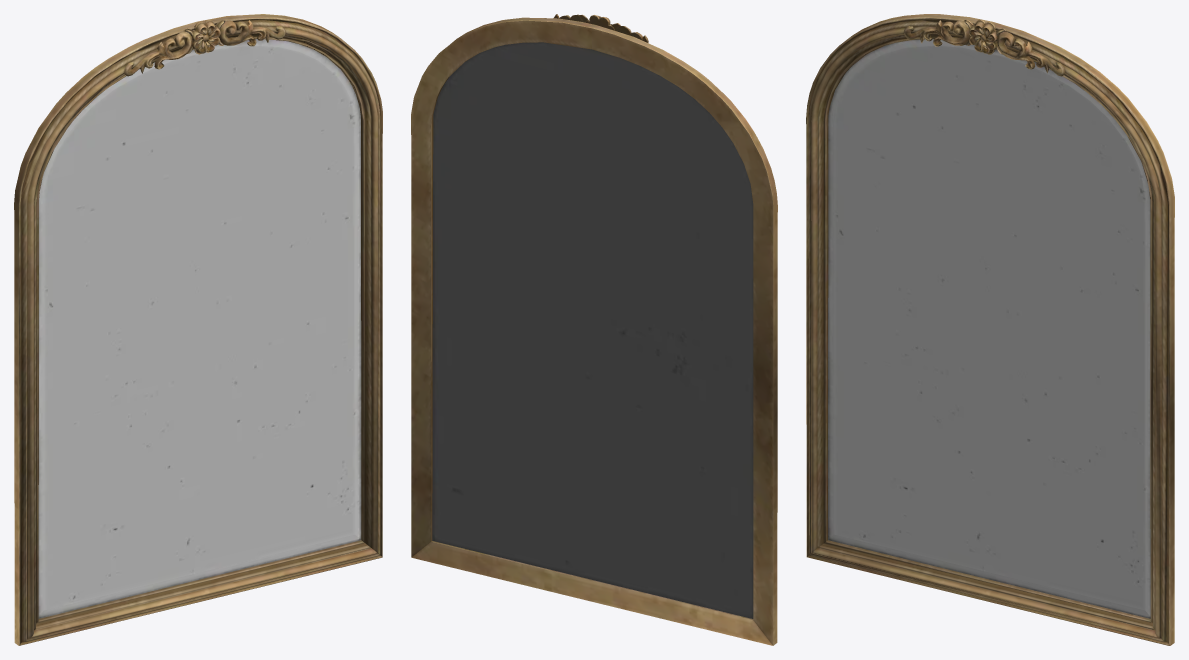
Rendered from ornate_mirror_01.glb.
3 views of the same model, side by side, from view 1: azimuth 30°, elevation 25°; view 2: azimuth 150°, elevation 25°; view 3: azimuth 330°, elevation 25° (orthographic).
Visible parts, largest first — view 1: ornate_mirror_01; view 2: ornate_mirror_01; view 3: ornate_mirror_01.
Part boxes in pixels (x1,y1,x2,y2): ornate_mirror_01: [14, 14, 382, 645]; ornate_mirror_01: [411, 14, 777, 645]; ornate_mirror_01: [806, 14, 1174, 645].
Size of the model in its own units: 0.4861 by 0.7437 by 0.026.
Materials: 1 (1 with a texture image).
